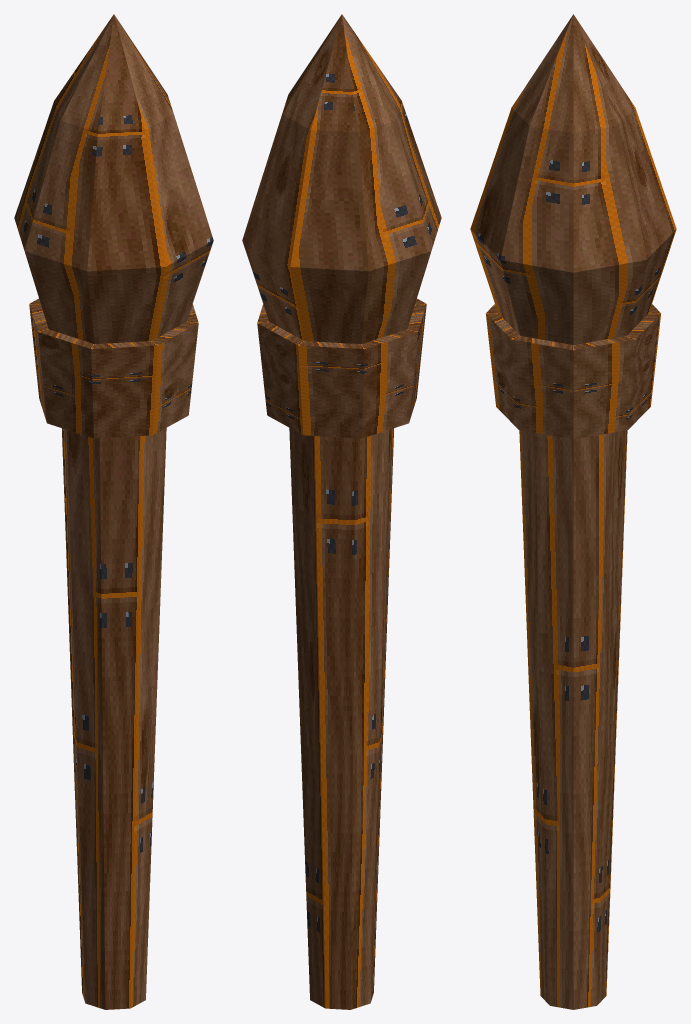
File: catacumba_tocha_acesa.glb
3 views of the same model, side by side, from view 1: azimuth 30°, elevation 25°; view 2: azimuth 150°, elevation 25°; view 3: azimuth 270°, elevation 25° (orthographic).
Parts seen in each view (by area): view 1: catacumba_tocha_acesa; view 2: catacumba_tocha_acesa; view 3: catacumba_tocha_acesa.
Boxes of the visible parts, x1,y1,x2,y2 form: catacumba_tocha_acesa: (14, 14, 213, 1009); catacumba_tocha_acesa: (242, 14, 441, 1009); catacumba_tocha_acesa: (470, 14, 676, 1009).
Size of the model in its own units: 0.2 by 1.05 by 0.2.
1 material, 1 textured.
